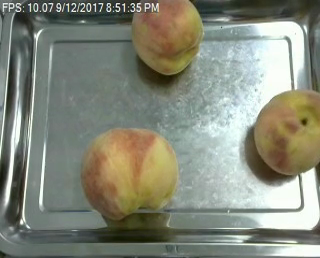Peach: (81, 127, 177, 220), (253, 88, 319, 176), (130, 0, 204, 76)
